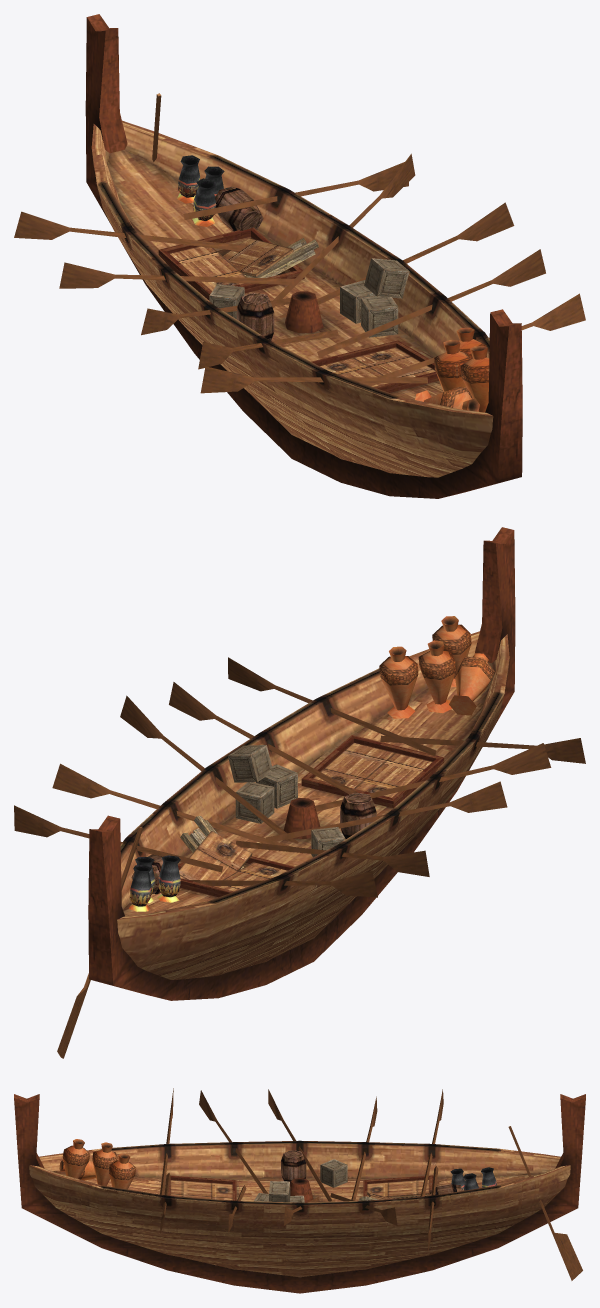
Rendered from pers_merchant.glb.
3 views of the same model, one above another, from view 1: azimuth 30°, elevation 25°; view 2: azimuth 150°, elevation 25°; view 3: azimuth 270°, elevation 25° (orthographic). The views are drawn at different scales.
Size of the model in its own units: 13.05 by 8.97 by 24.04.
Materials: 1 (1 with a texture image).
